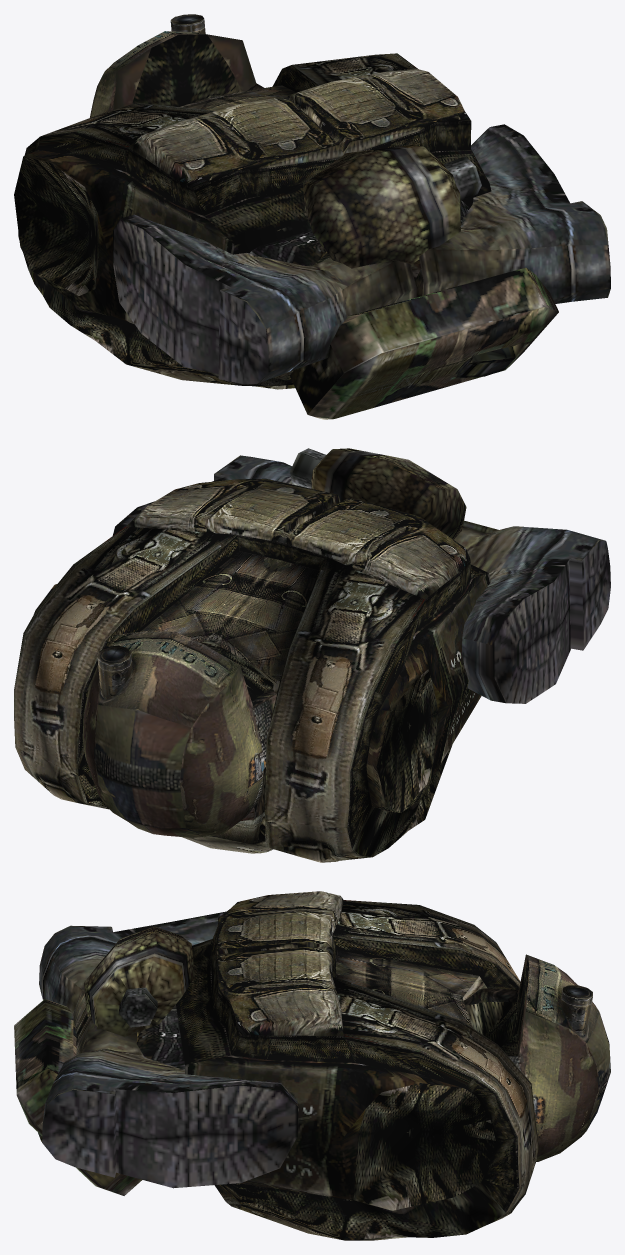
The model's file is specnaz_suit.fbx.
3 renders of one model, top to bottom at view 1: azimuth 30°, elevation 25°; view 2: azimuth 150°, elevation 25°; view 3: azimuth 270°, elevation 25°, orthographic. The views are drawn at different scales.
Parts seen in each view (by area): view 1: 0; view 2: 0; view 3: 0.
Part boxes in pixels (left/top/right/bottom): 0: left=14, top=14, right=610, bottom=419; 0: left=14, top=448, right=610, bottom=862; 0: left=14, top=891, right=610, bottom=1240.
Size of the model in its own units: 0.5301 by 0.3688 by 0.7555.
